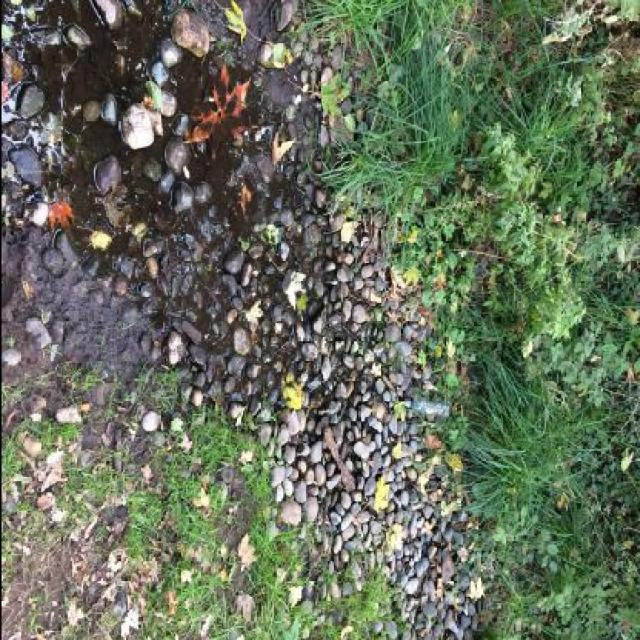plastic: (402, 395, 450, 420)
